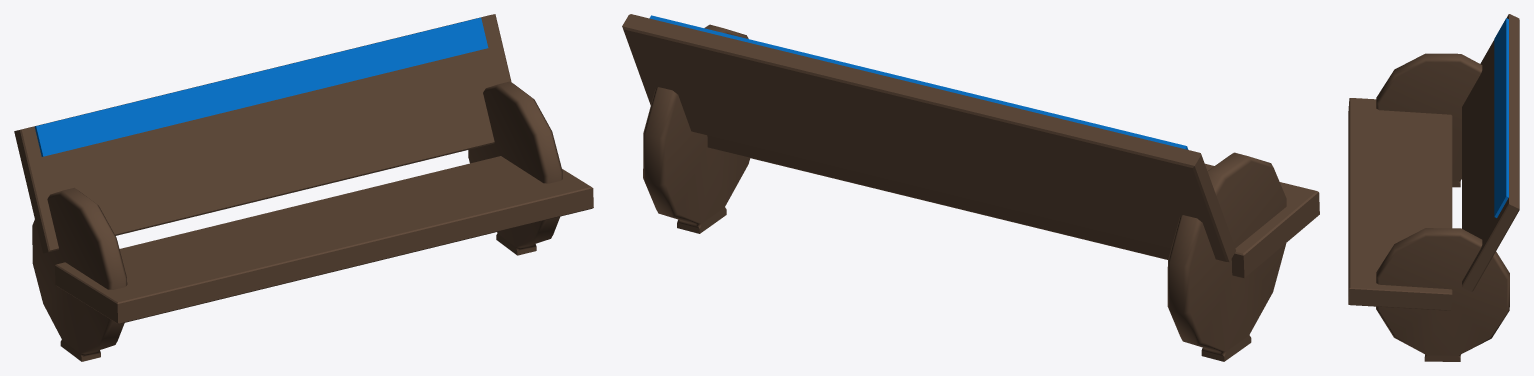
The model's file is bancoPoesia.fbx.
3 views of the same model, side by side, from view 1: azimuth 30°, elevation 25°; view 2: azimuth 150°, elevation 25°; view 3: azimuth 270°, elevation 25° (orthographic). The views are drawn at different scales.
Parts seen in each view (by area): view 1: pCube2, pCube1, pCylinder10, pCylinder9; view 2: pCube2, pCylinder10, pCube1, pCylinder9; view 3: pCube1, pCylinder9, pCube2, pCylinder10.
Boxes of the visible parts, x1,y1,x2,y2 form: pCube2: (14, 14, 511, 253); pCube1: (55, 156, 593, 324); pCylinder10: (32, 187, 127, 361); pCylinder9: (468, 81, 562, 255); pCube2: (622, 14, 1235, 262); pCylinder10: (1167, 152, 1286, 361); pCube1: (707, 135, 1319, 278); pCylinder9: (643, 24, 750, 233); pCube1: (1348, 98, 1452, 310); pCylinder9: (1376, 228, 1509, 361); pCube2: (1462, 14, 1519, 291); pCylinder10: (1376, 53, 1482, 187).
Size of the model in its own units: 3.5 by 1.4 by 1.33.
